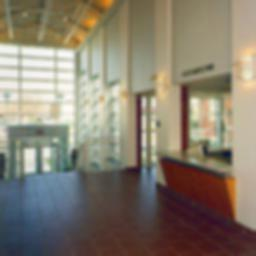Escaleras: (16, 143, 85, 179)
